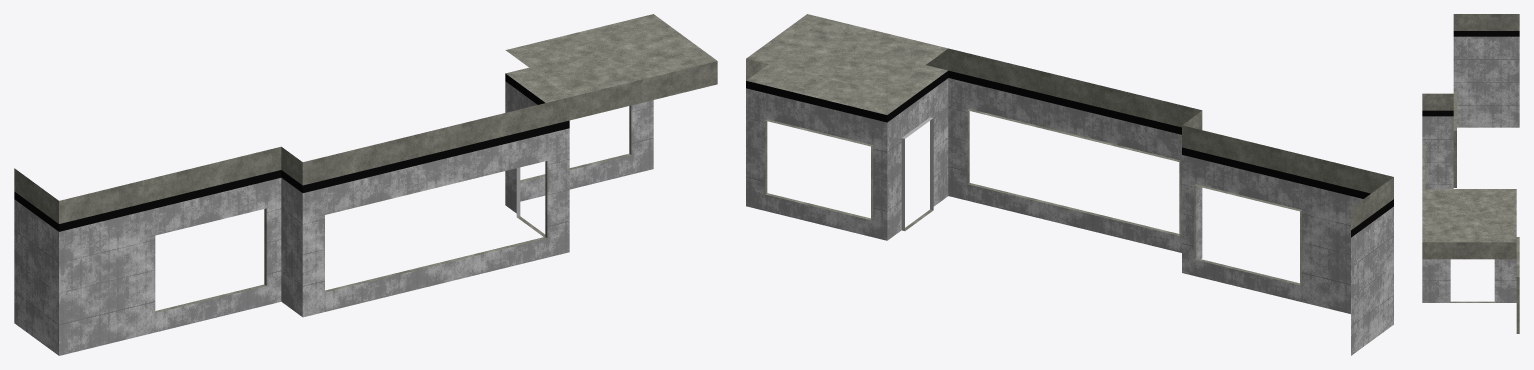
Rendered from Outwall.glb.
3 renders of one model, left to right at view 1: azimuth 30°, elevation 25°; view 2: azimuth 150°, elevation 25°; view 3: azimuth 270°, elevation 25°, orthographic. The views are drawn at different scales.
Parts seen in each view (by area): view 1: Hall2.001; view 2: Hall2.001; view 3: Hall2.001.
Part boxes in pixels (x1,y1,x2,y2): Hall2.001: (14,14,717,355); Hall2.001: (746,14,1393,355); Hall2.001: (1422,14,1519,333).
Size of the model in its own units: 17.2 by 4 by 3.1.
4 materials, 2 textured.
